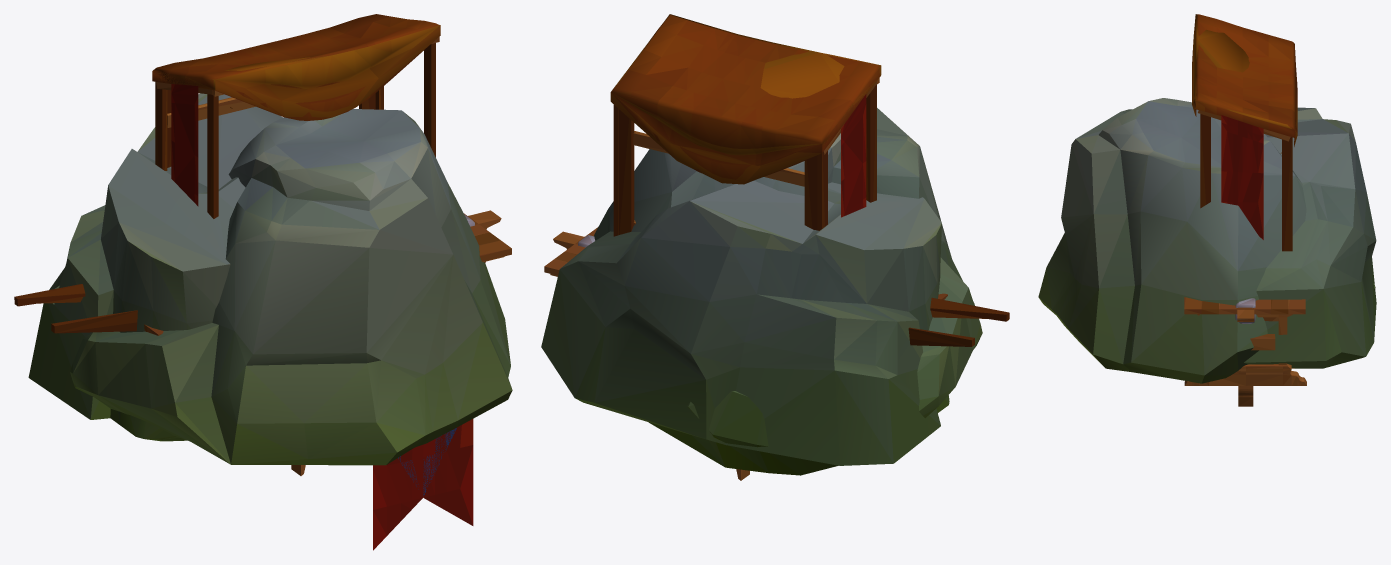
Rendered from props2.glb.
The picture shows the model from 3 angles, left to right: view 1: azimuth 30°, elevation 25°; view 2: azimuth 150°, elevation 25°; view 3: azimuth 270°, elevation 25°; orthographic projection. The views are drawn at different scales.
Visible parts, largest first — view 1: PR_Rock_Medium_1, PR_Rock_Medium_2, PR_Stall_Cart_Empty, PR_Stall_Empty, PR_Banner_1, PR_Table_Large; view 2: PR_Rock_Medium_2, PR_Stall_Empty, PR_Rock_Medium_1, PR_Stall_Cart_Empty, PR_Table_Large, PR_Banner_1; view 3: PR_Rock_Medium_1, PR_Rock_Medium_2, PR_Stall_Empty, PR_Stall_Cart_Empty, PR_Table_Large, PR_Banner_1.
Part boxes in pixels (x1,y1,x2,y2): PR_Rock_Medium_1: [70, 109, 512, 465]; PR_Rock_Medium_2: [28, 93, 282, 441]; PR_Stall_Cart_Empty: [14, 25, 440, 333]; PR_Stall_Empty: [152, 14, 438, 217]; PR_Banner_1: [291, 210, 501, 550]; PR_Table_Large: [144, 213, 511, 335]; PR_Rock_Medium_2: [541, 180, 949, 465]; PR_Stall_Empty: [611, 15, 880, 236]; PR_Rock_Medium_1: [594, 108, 982, 475]; PR_Stall_Cart_Empty: [610, 14, 1009, 346]; PR_Table_Large: [544, 227, 947, 299]; PR_Banner_1: [553, 231, 749, 480]; PR_Rock_Medium_1: [1038, 98, 1375, 383]; PR_Rock_Medium_2: [1244, 107, 1376, 368]; PR_Stall_Empty: [1195, 14, 1297, 368]; PR_Stall_Cart_Empty: [1192, 14, 1297, 251]; PR_Table_Large: [1184, 297, 1306, 385]; PR_Banner_1: [1235, 298, 1255, 406].
Size of the model in its own units: 3.72 by 4.17 by 3.
